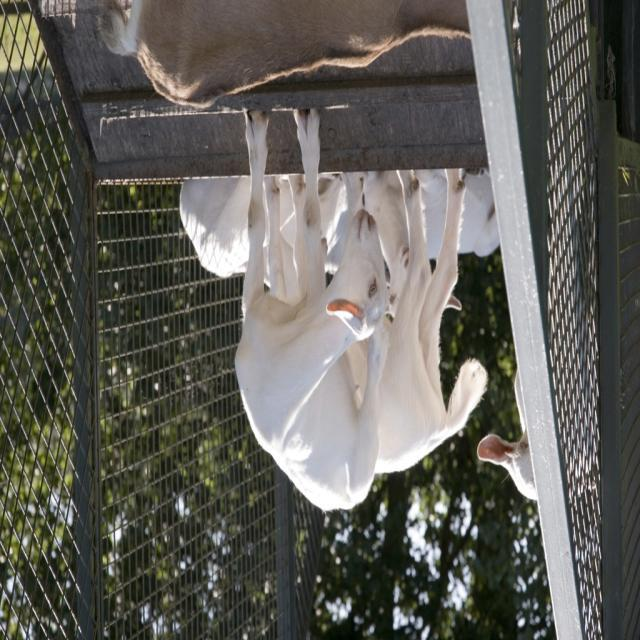Goat: (234, 107, 489, 514), (98, 2, 474, 110), (180, 169, 501, 284)
